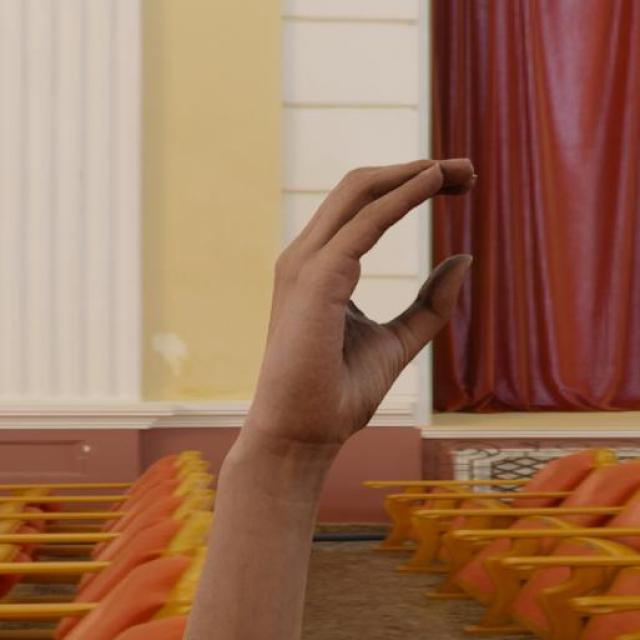C: (239, 148, 490, 487)
